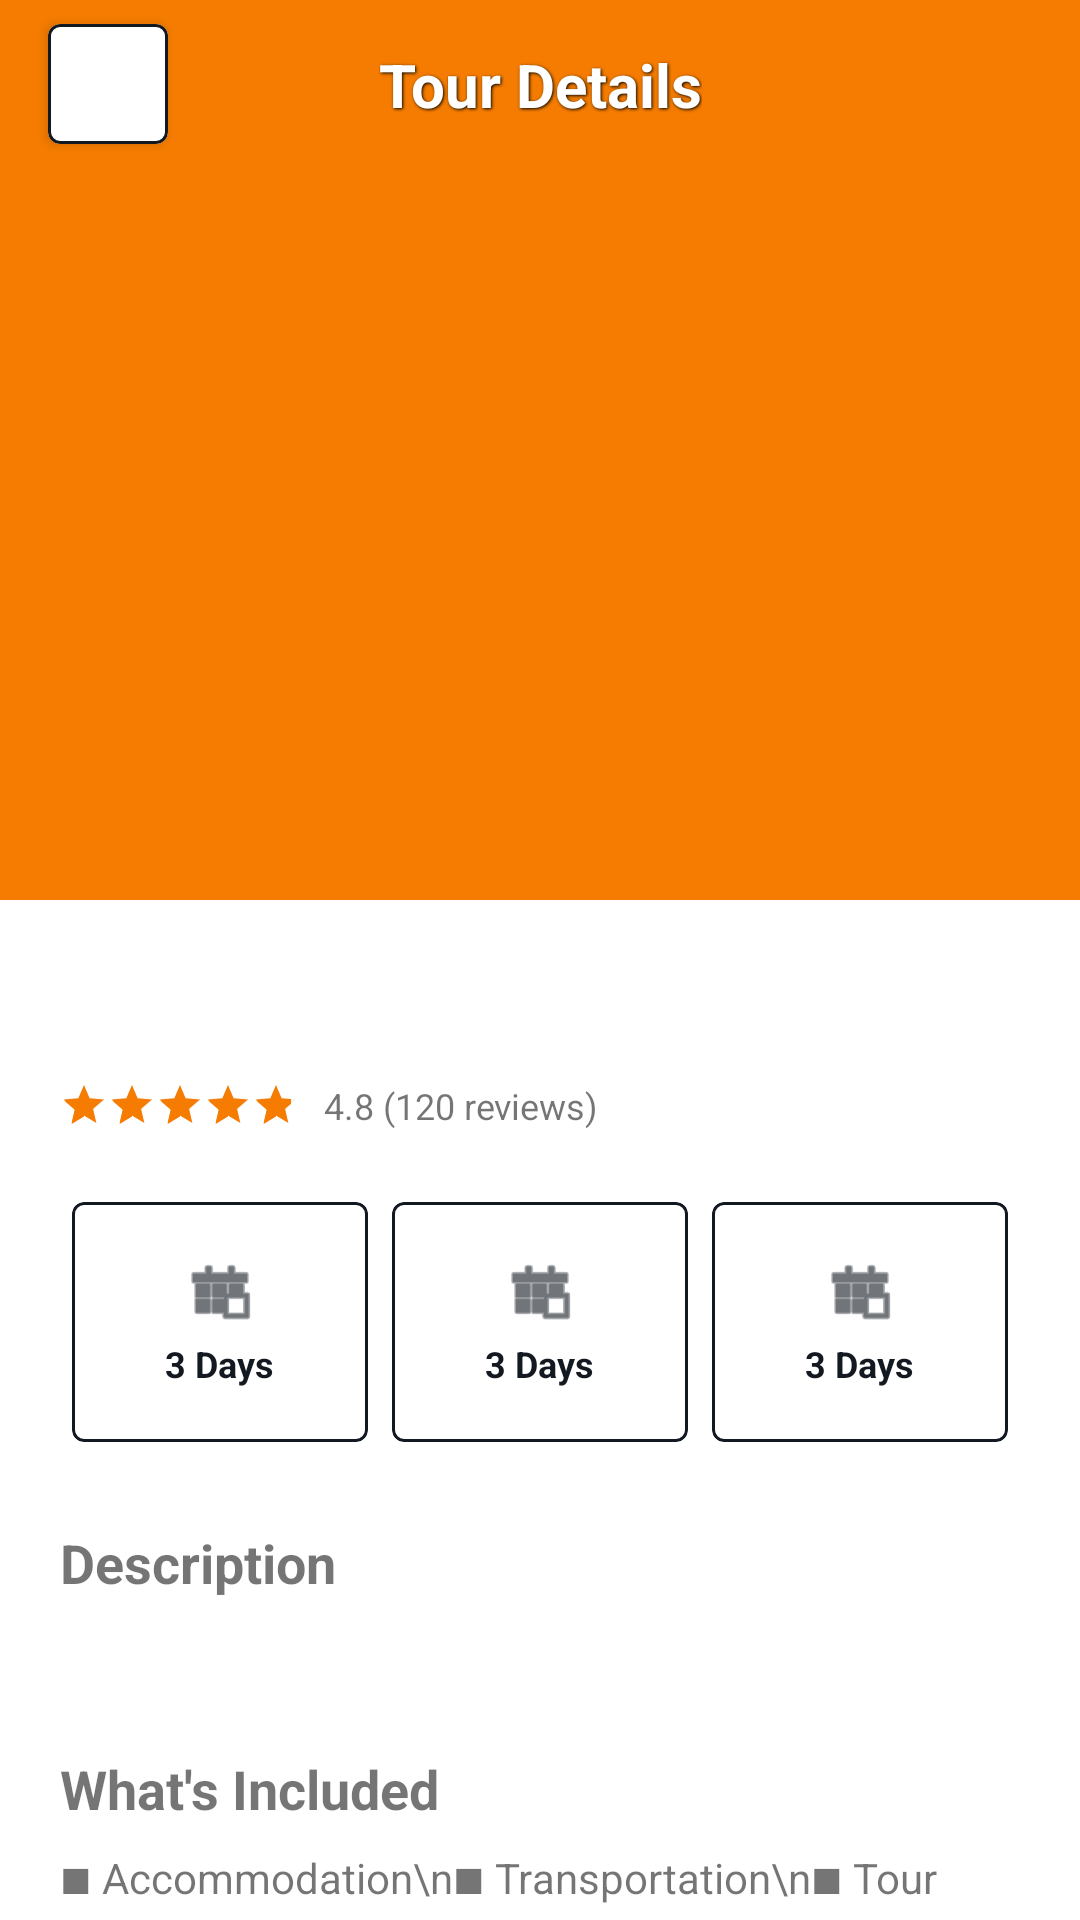

Icons on this 1080w x 1920h Android screen, each with the point to tap as point (x, y):
today: point (220, 1292), point (540, 1292), point (860, 1292)
